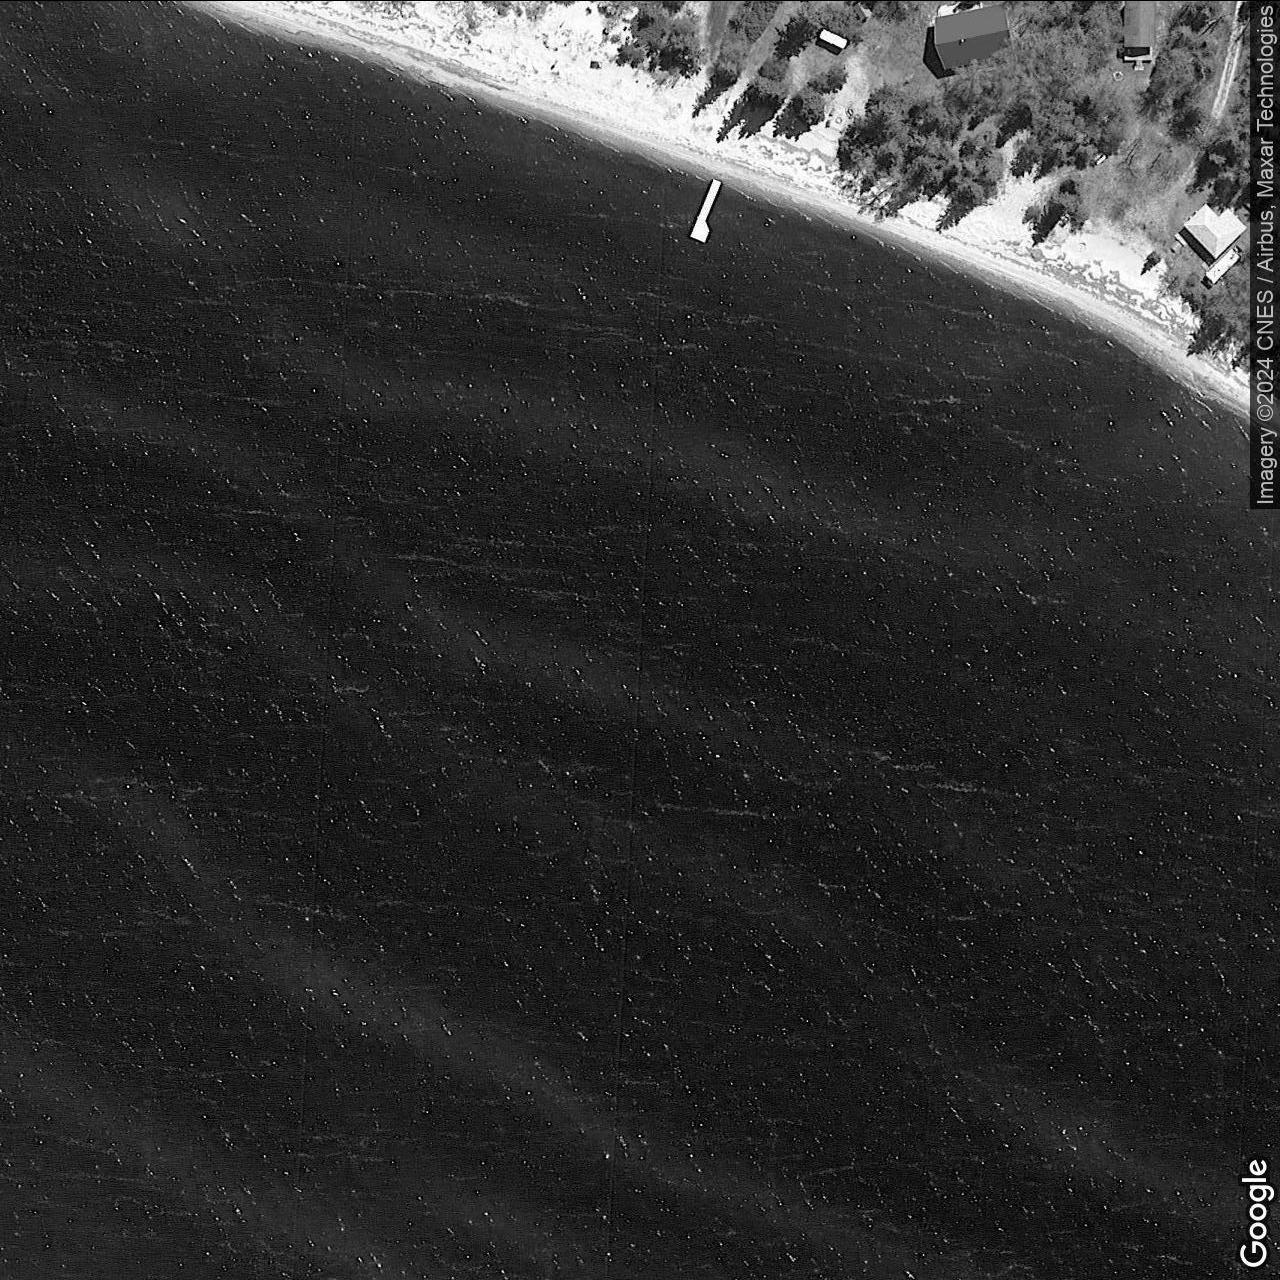Garage: (934, 4, 1013, 69)
House: (1182, 200, 1247, 260), (1123, 0, 1157, 47)
Trailer: (1205, 247, 1240, 285)
